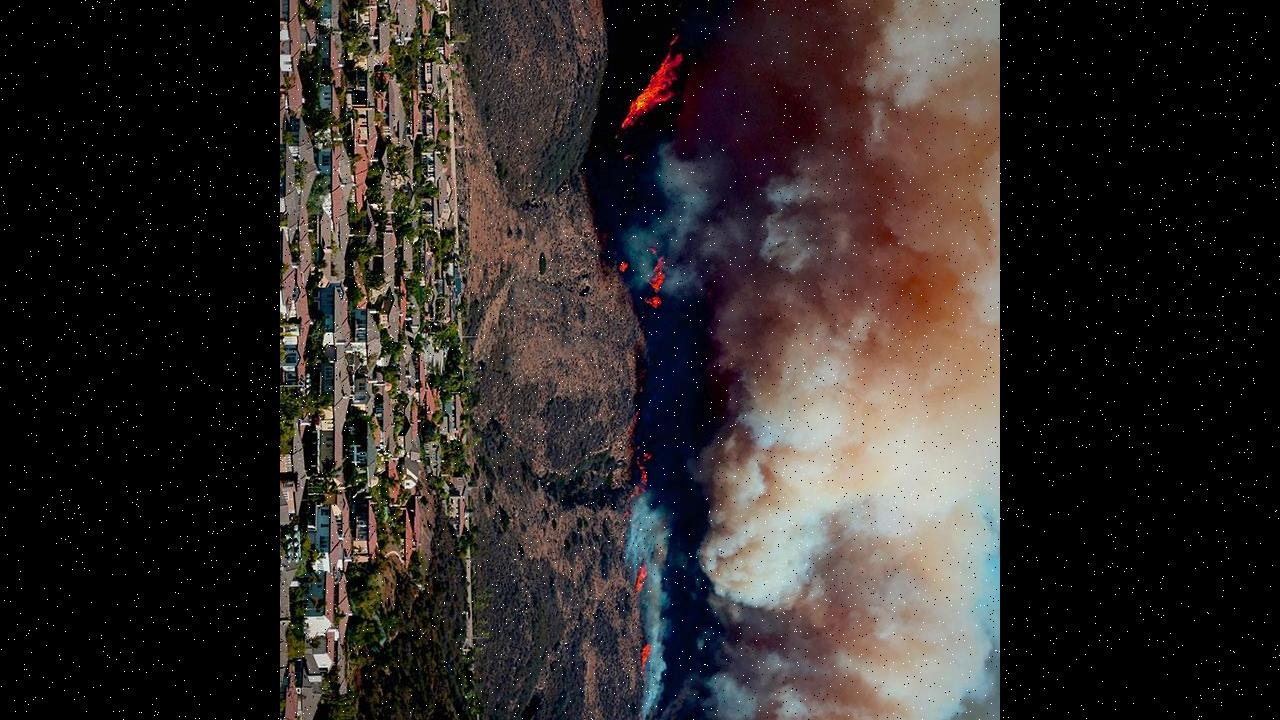fire: (579, 0, 724, 346), (592, 414, 728, 720)
